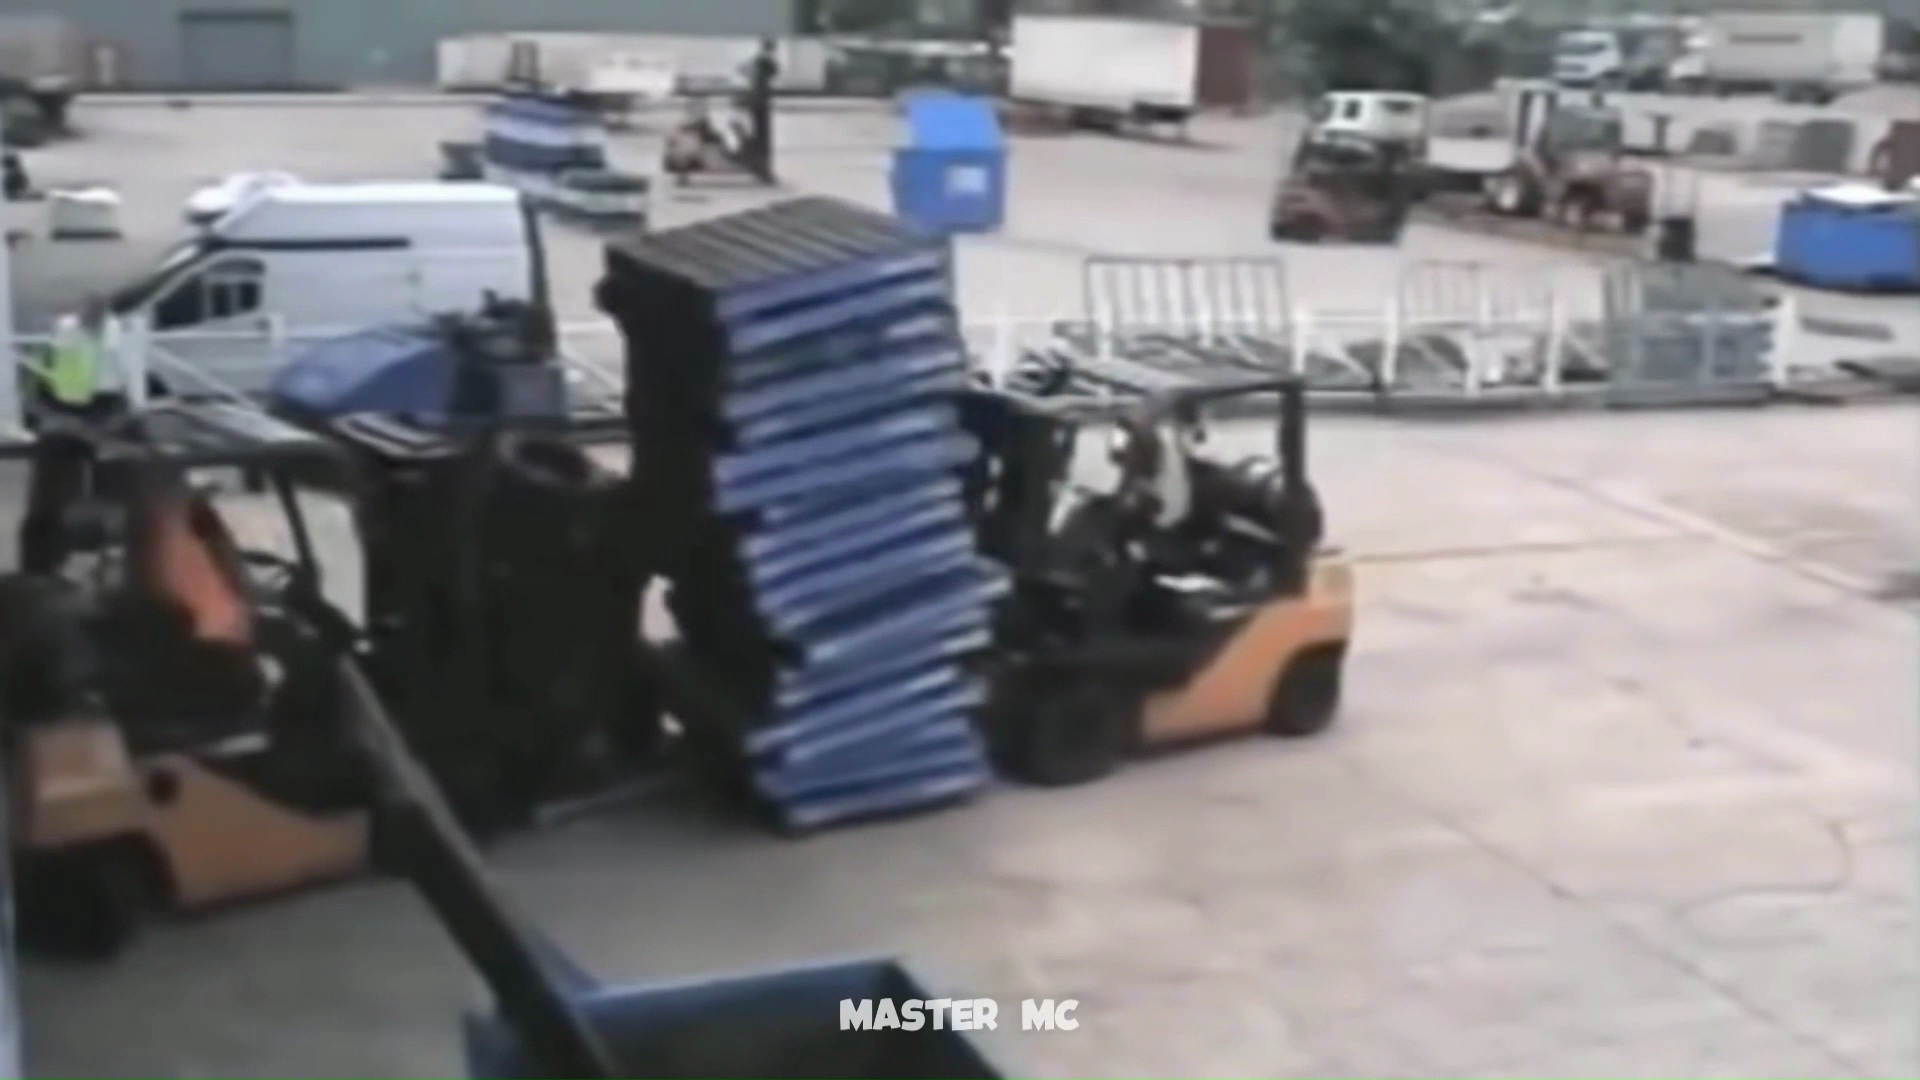forklift: (629, 229, 1365, 819), (1, 388, 758, 922)
